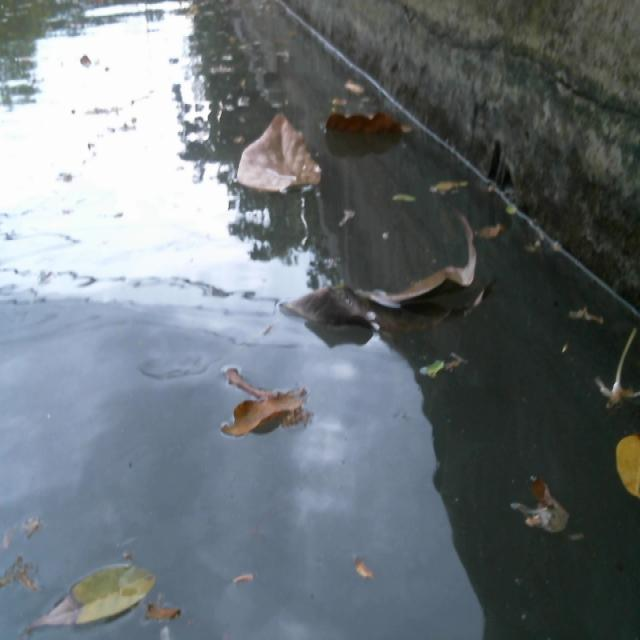Big-leaf: (287, 213, 492, 331), (229, 111, 332, 213), (215, 364, 321, 458), (323, 113, 422, 146)
Small-leaf: (31, 567, 170, 631), (407, 330, 472, 396), (335, 67, 382, 108), (612, 427, 640, 495), (220, 556, 257, 590), (435, 170, 478, 199), (350, 543, 373, 586), (384, 187, 424, 211), (478, 219, 512, 243), (142, 600, 185, 617), (336, 204, 359, 225), (332, 85, 351, 108)
